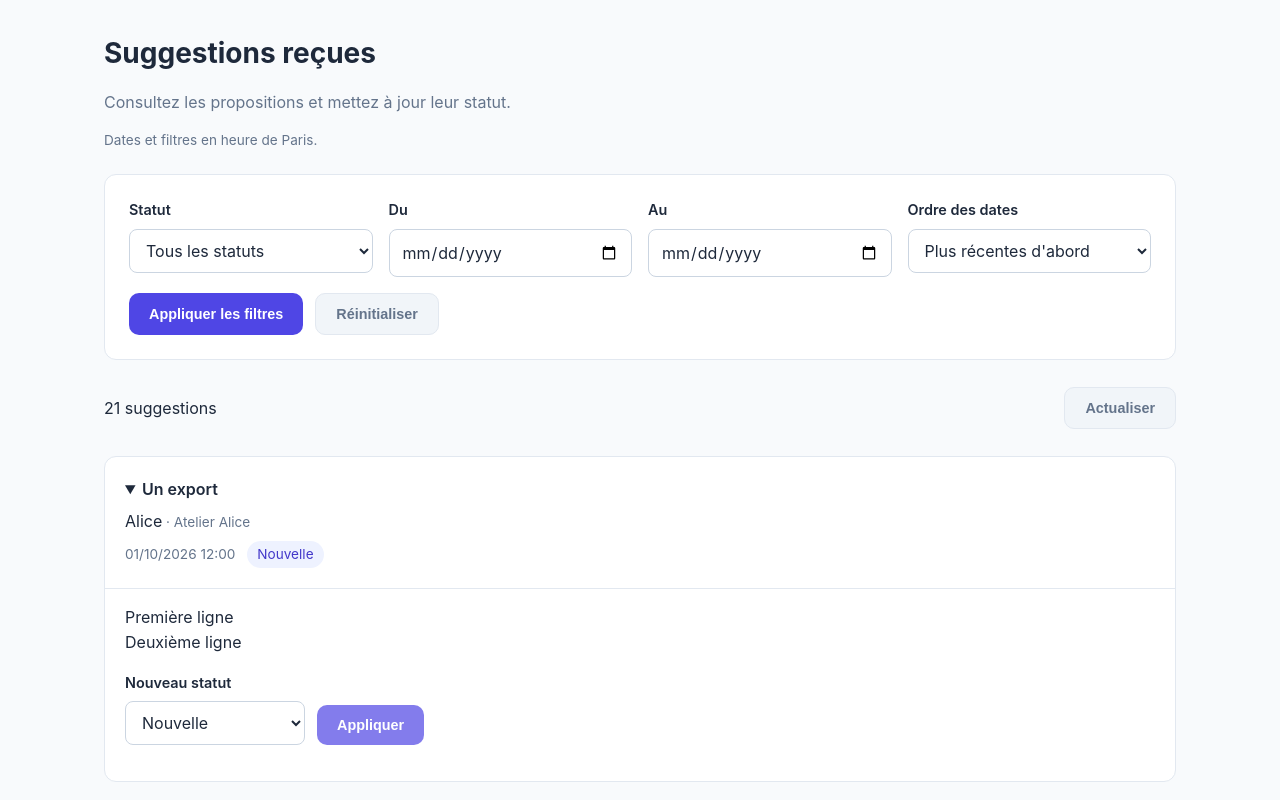
Test: DevSuggestionsView › garde le detail ouvert et ne change le statut qu apres confirmation explicite
Select "Acceptée" in the dropdown with id "suggestion-status-1" at (215, 723), box [125,701,305,745]
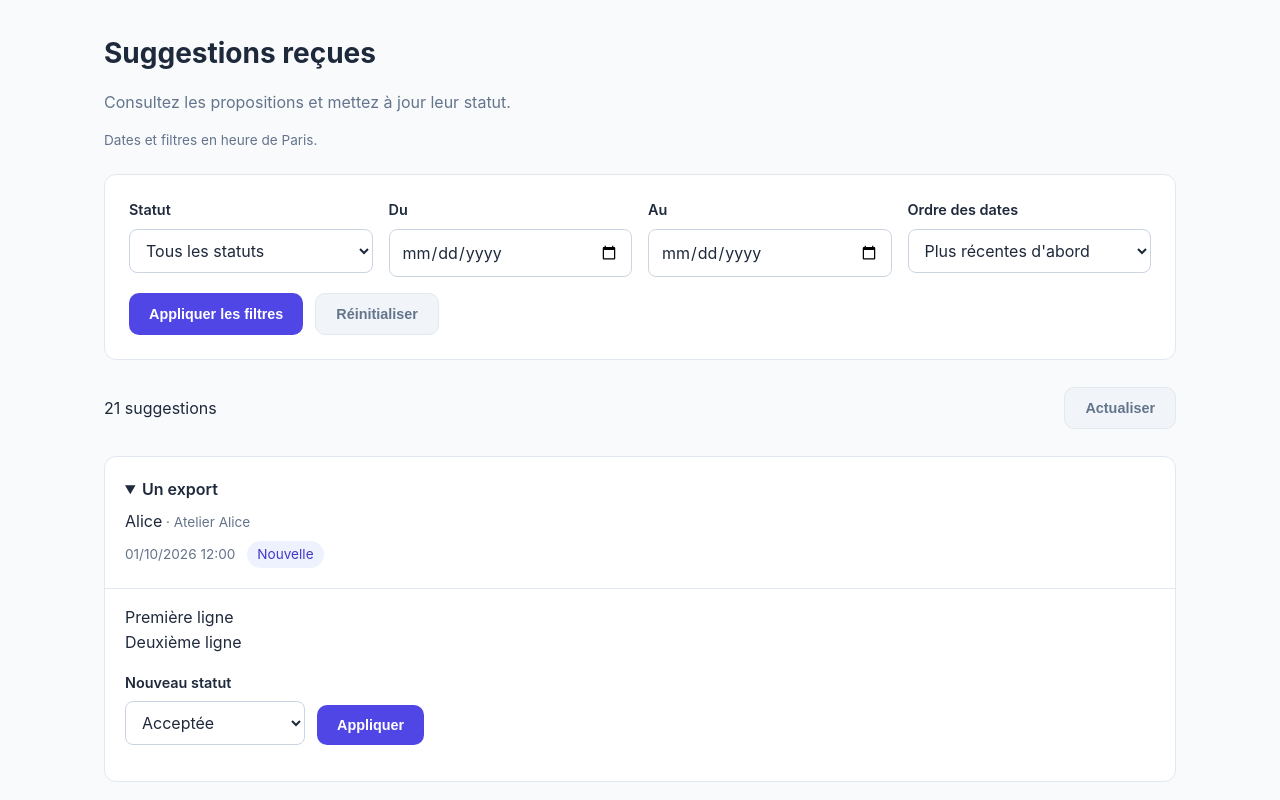
Submit the form with class "suggestion-status-form", box [125,674,424,745]
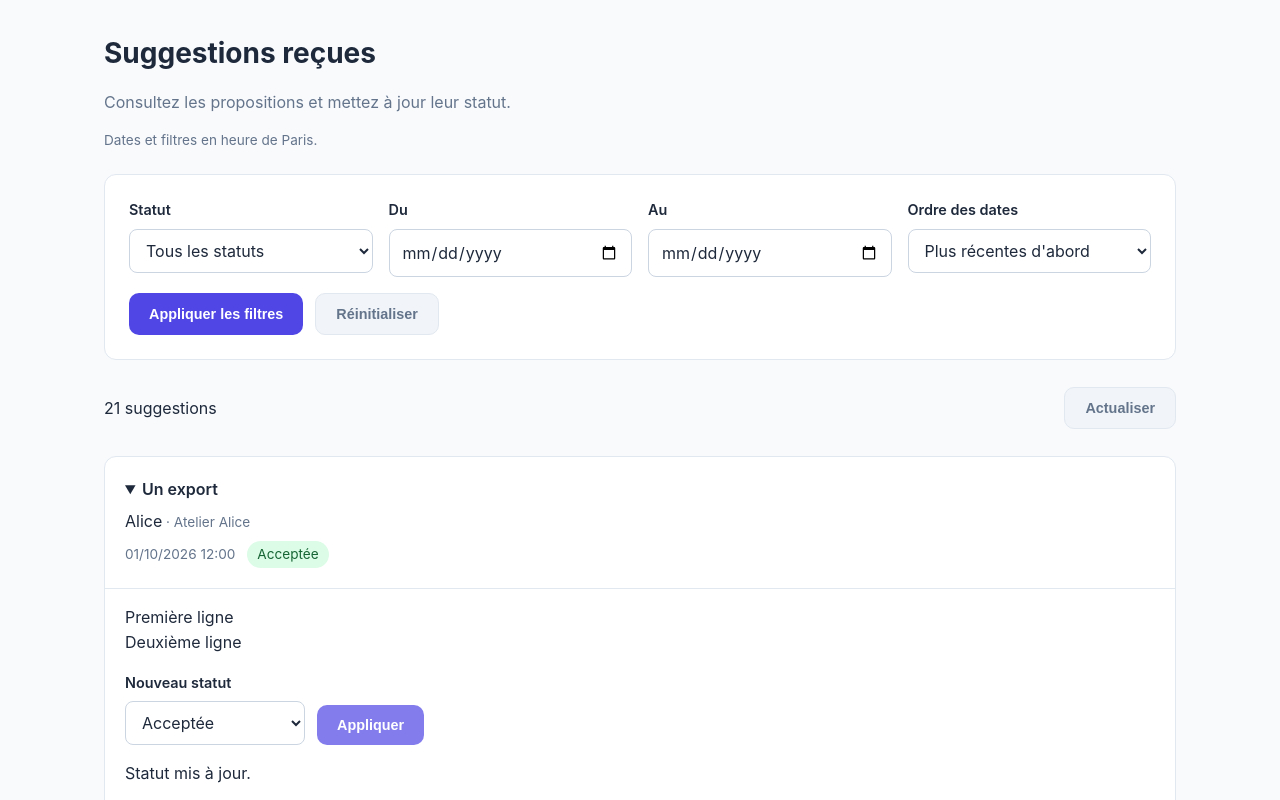
expect the text with class "suggestion-status" reads "Acceptée": met, box [257,546,319,562]
expect the message "Statut mis à jour." is shown: met, box [125,763,251,783]
